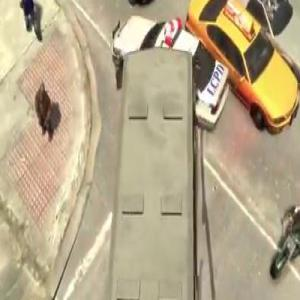serious: (105, 4, 233, 300)
